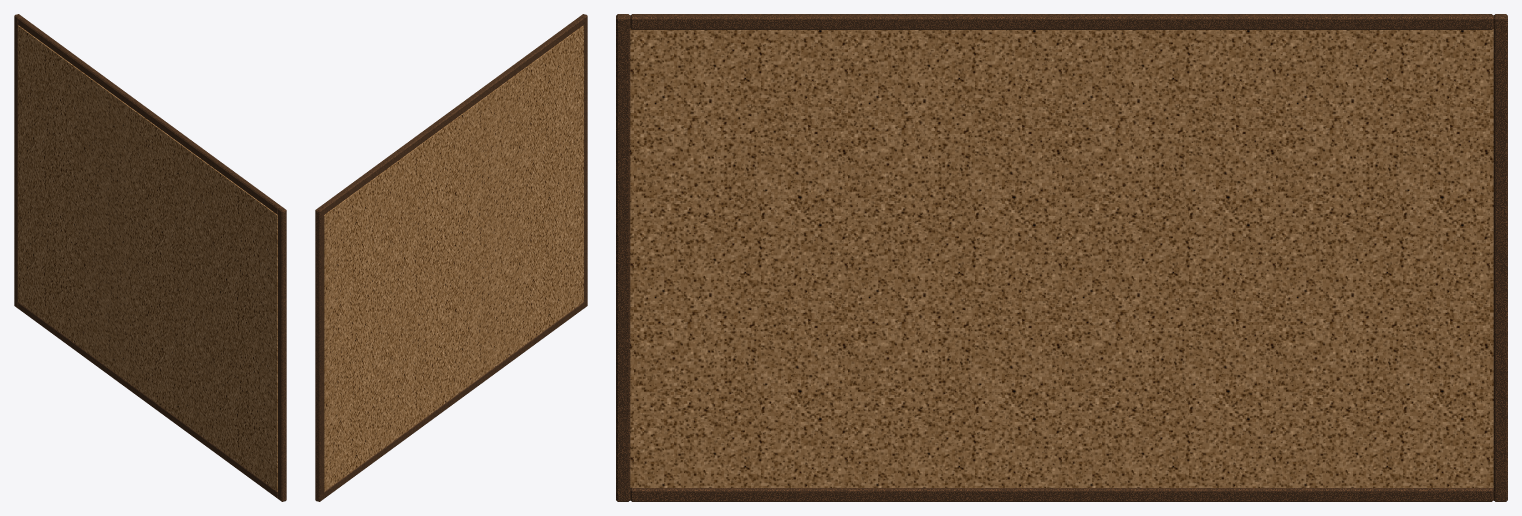
The model's file is CorkBoardWide.gltf.
The picture shows the model from 3 angles, left to right: view 1: azimuth 30°, elevation 25°; view 2: azimuth 150°, elevation 25°; view 3: azimuth 270°, elevation 25°; orthographic projection. The views are drawn at different scales.
Parts seen in each view (by area): view 1: CorkBoardWide; view 2: CorkBoardWide; view 3: CorkBoardWide.
Boxes of the visible parts, x1,y1,x2,y2 form: CorkBoardWide: [14, 14, 286, 501]; CorkBoardWide: [315, 14, 587, 501]; CorkBoardWide: [616, 14, 1507, 501].
Bounding box in the file's own units: 0.03 × 1.5 × 2.5.
2 materials, 2 textured.
